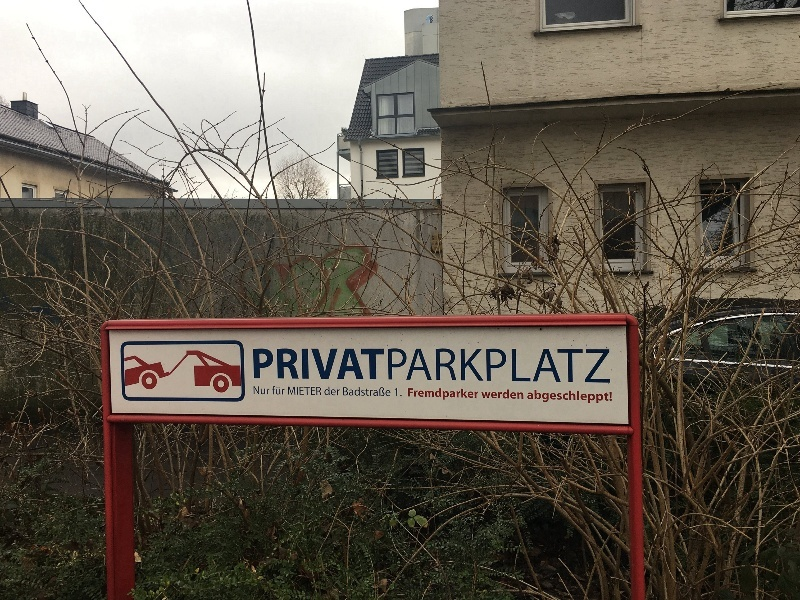text: (257, 347, 272, 384), (273, 347, 288, 384), (289, 347, 304, 384), (305, 347, 320, 384), (321, 347, 336, 384), (337, 347, 352, 384), (353, 347, 368, 384), (369, 347, 384, 384), (385, 347, 400, 384), (401, 347, 416, 384), (417, 347, 432, 384), (433, 347, 448, 384), (449, 347, 464, 384), (465, 347, 480, 384), (481, 347, 496, 384), (497, 347, 512, 384), (513, 347, 528, 384), (529, 347, 544, 384), (545, 347, 560, 384), (561, 347, 576, 384), (577, 347, 592, 384), (593, 347, 608, 384), (529, 390, 544, 404), (545, 390, 560, 404), (561, 390, 576, 404), (577, 390, 592, 404), (593, 390, 608, 404), (417, 388, 432, 401), (433, 388, 448, 401), (449, 388, 464, 401), (465, 388, 479, 401), (289, 386, 304, 396), (305, 386, 320, 396), (353, 387, 368, 397), (369, 387, 384, 397), (252, 347, 256, 384), (481, 390, 496, 399), (497, 390, 512, 399), (257, 386, 271, 395), (324, 386, 336, 396), (273, 386, 286, 395), (609, 347, 612, 384), (408, 388, 416, 401), (513, 390, 524, 399), (343, 387, 352, 397), (385, 387, 391, 397), (609, 390, 613, 404), (394, 388, 400, 397), (337, 386, 341, 396), (254, 386, 256, 395), (401, 388, 403, 397), (527, 390, 528, 404), (321, 386, 322, 396)
